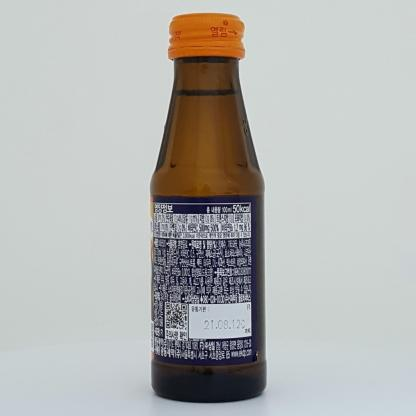-----500---100ML: (150, 12, 267, 403)
